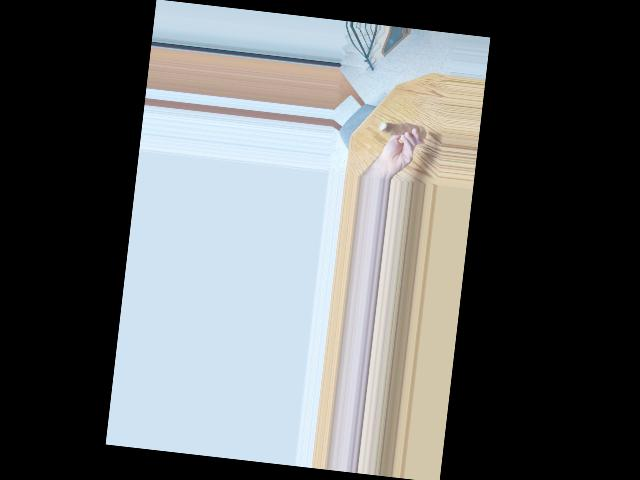sweet_potato: (376, 119, 428, 144)
